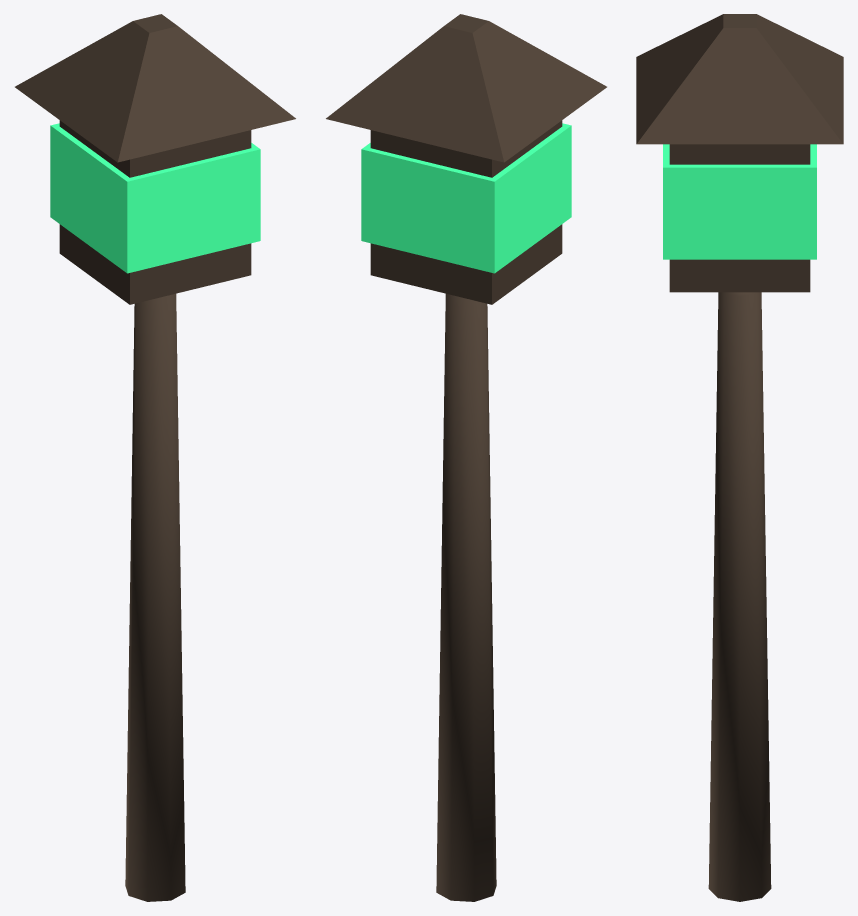
File: prop-lantern.glb
3 renders of one model, left to right at view 1: azimuth 30°, elevation 25°; view 2: azimuth 150°, elevation 25°; view 3: azimuth 270°, elevation 25°, orthographic.
Parts seen in each view (by area): view 1: prop-lantern; view 2: prop-lantern; view 3: prop-lantern.
Boxes of the visible parts, box(x1,y1,x2,y2) form: prop-lantern: box(15, 14, 295, 901); prop-lantern: box(326, 14, 606, 901); prop-lantern: box(636, 14, 843, 901).
Size of the model in its own units: 0.1061 by 0.4905 by 0.1061.
